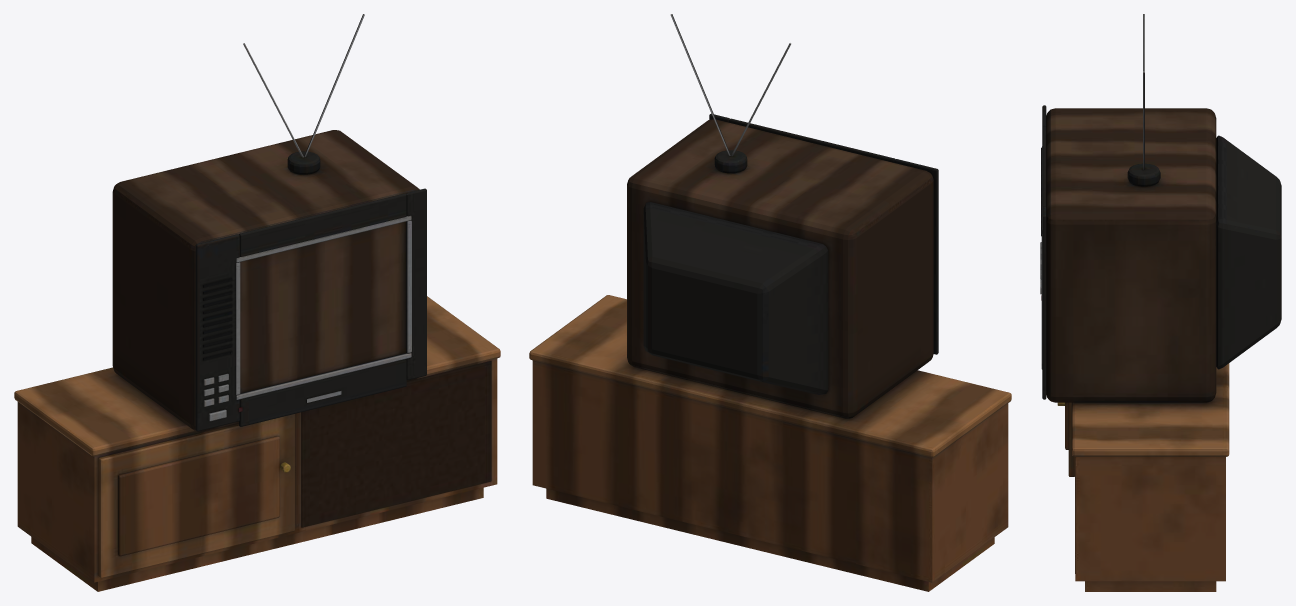
3 renders of one model, left to right at view 1: azimuth 30°, elevation 25°; view 2: azimuth 150°, elevation 25°; view 3: azimuth 270°, elevation 25°, orthographic.
Visible parts, largest first — view 1: wz_tv; view 2: wz_tv; view 3: wz_tv.
Part boxes in pixels (x1,y1,x2,y2): wz_tv: (14,14,500,591); wz_tv: (529,14,1011,591); wz_tv: (1040,14,1281,591).
Bounding box in the file's own units: 1.42 × 1.61 × 0.737.
Materials: 1 (1 with a texture image).
